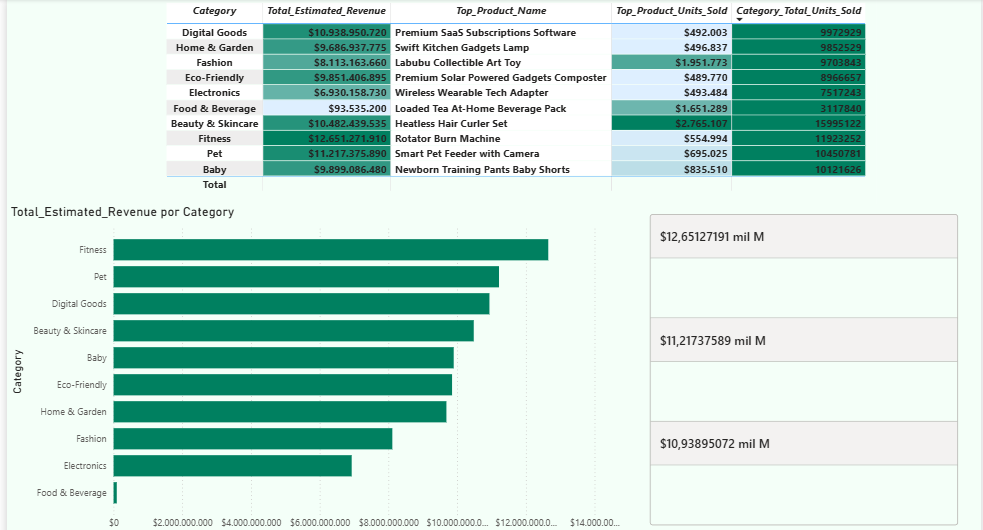

The dashboard page shown, as its layout file describes it:
{"tool":"powerbi","page":{"name":"Página 1","canvas":[1280,720],"ordinal":0},"visuals":[{"type":"barChart","fields":{"Category":["reporte.Category"],"Y":["Sum(reporte.Ingreso_estimado)"]},"box":[0,269.8,812,450.1],"z":0},{"type":"cardVisual","fields":{"Rows":["reporte.Ingreso_estimado"]},"box":[839.3,257.7,415.4,461.9],"z":1000},{"type":"tableEx","fields":{"Values":["reporte.Category","reporte.Ingreso_estimado","reporte.Product_Name","reporte.Total_por_producto","reporte.Total_vendido"]},"box":[204.2,0,939.2,270.4],"z":2000}]}

Visuals, with their boxes on the page's 1280x720 design canvas (x1, y1, x2, y2). These are canvas units, not pixel positions in the 983x530 screenshot, which may show the page scaled, cropped or inside an application window:
barChart - reporte.Category x Sum(reporte.Ingreso_estimado): (left=0, top=270, right=812, bottom=720)
cardVisual - reporte.Ingreso_estimado: (left=839, top=258, right=1255, bottom=720)
tableEx - reporte.Category x reporte.Ingreso_estimado: (left=204, top=0, right=1143, bottom=270)
